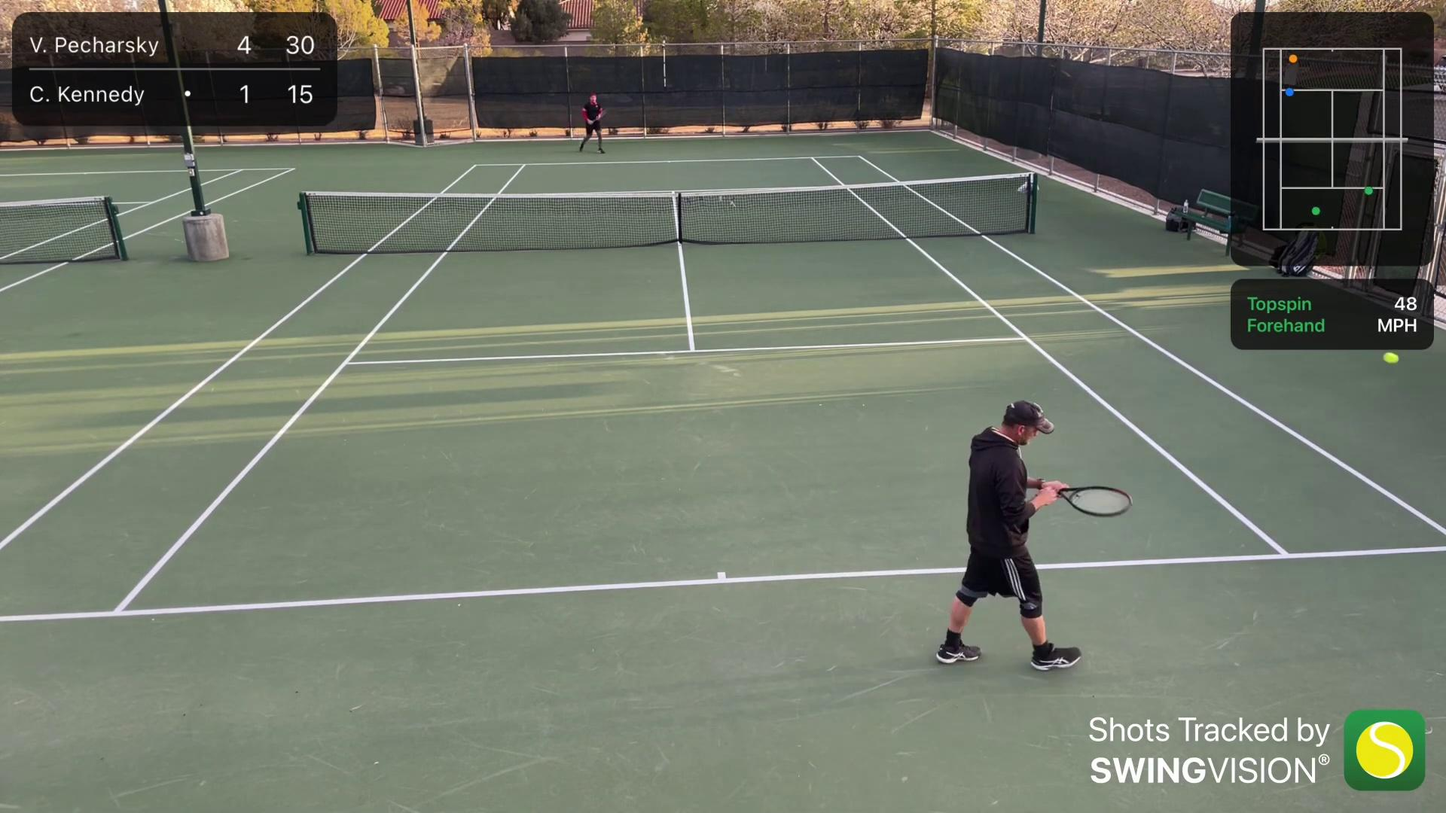ball: (1380, 351, 1402, 365)
